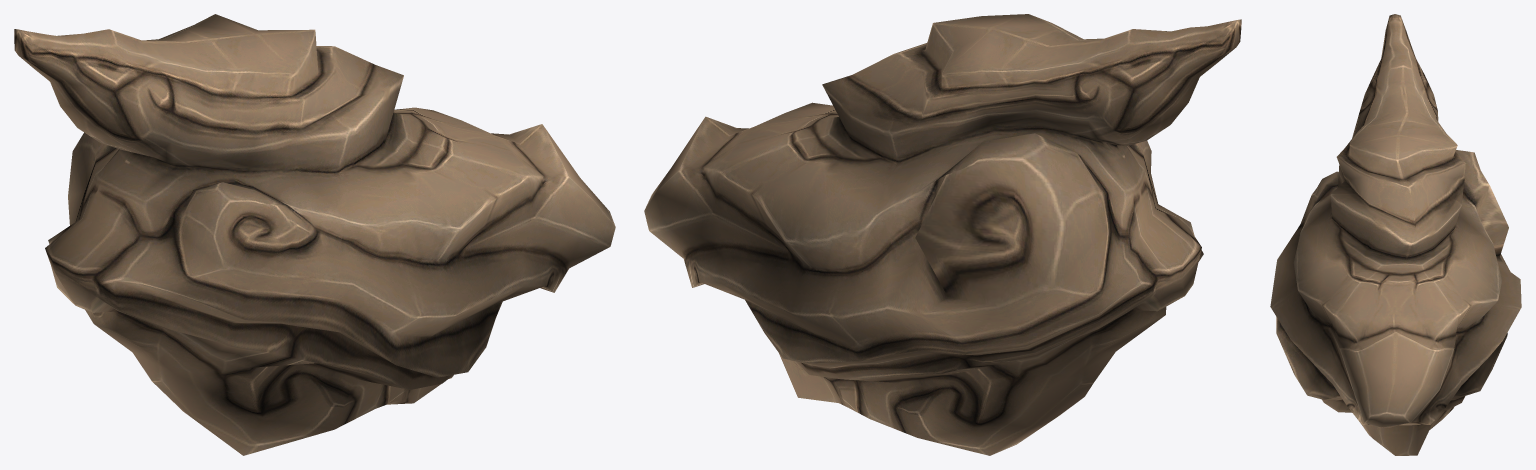
The model's file is testfbx.fbx.
3 renders of one model, left to right at view 1: azimuth 30°, elevation 25°; view 2: azimuth 150°, elevation 25°; view 3: azimuth 270°, elevation 25°, orthographic. The views are drawn at different scales.
Visible parts, largest first — view 1: node_id45; view 2: node_id45; view 3: node_id45.
Part boxes in pixels (x1,y1,x2,y2): node_id45: (14,14,615,455); node_id45: (644,14,1241,455); node_id45: (1270,14,1521,455).
Size of the model in its own units: 0.512 by 0.3902 by 0.2871.
Materials: 1 (1 with a texture image).
